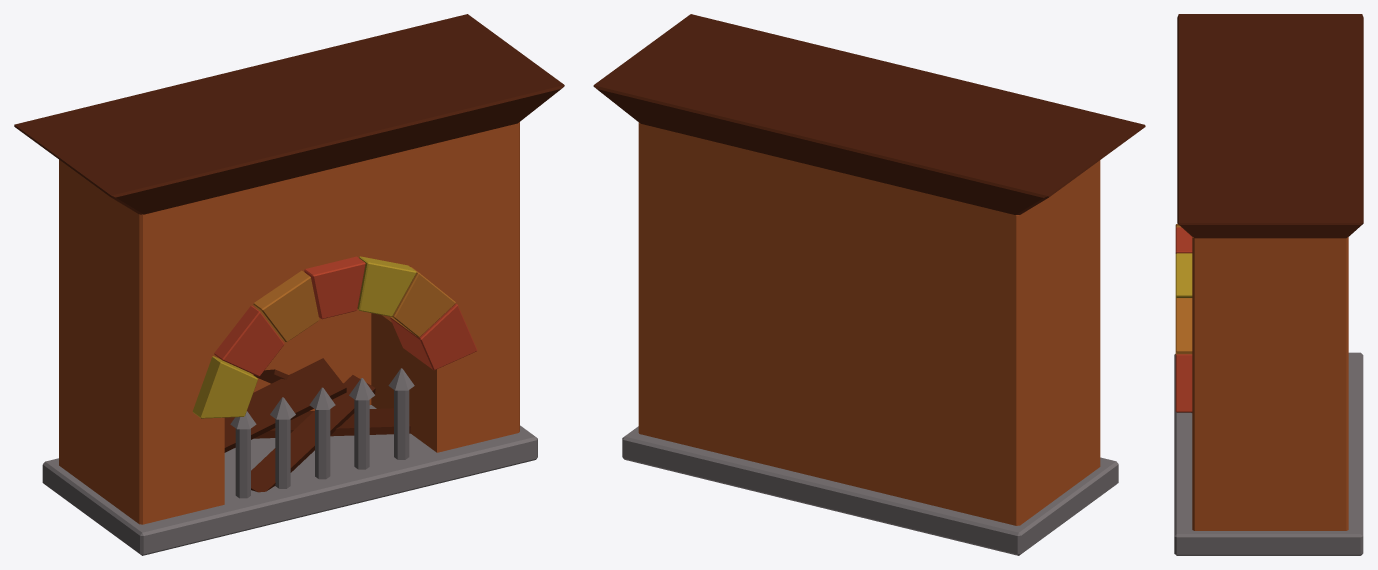
The model's file is Fireplace1.glb.
The picture shows the model from 3 angles, left to right: view 1: azimuth 30°, elevation 25°; view 2: azimuth 150°, elevation 25°; view 3: azimuth 270°, elevation 25°; orthographic projection. The views are drawn at different scales.
Visible parts, largest first — view 1: Fireplace1; view 2: Fireplace1; view 3: Fireplace1.
Part boxes in pixels (x1,y1,x2,y2): Fireplace1: [14, 14, 564, 555]; Fireplace1: [593, 14, 1145, 555]; Fireplace1: [1174, 14, 1363, 555].
Bounding box in the file's own units: 1.94 × 1.5 × 0.7406.
